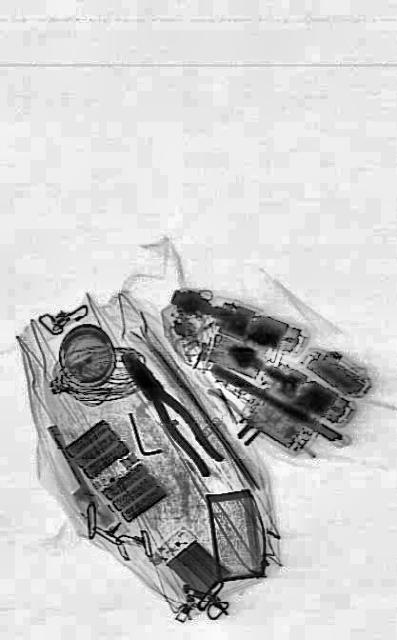Pliers: (115, 337, 224, 485)
